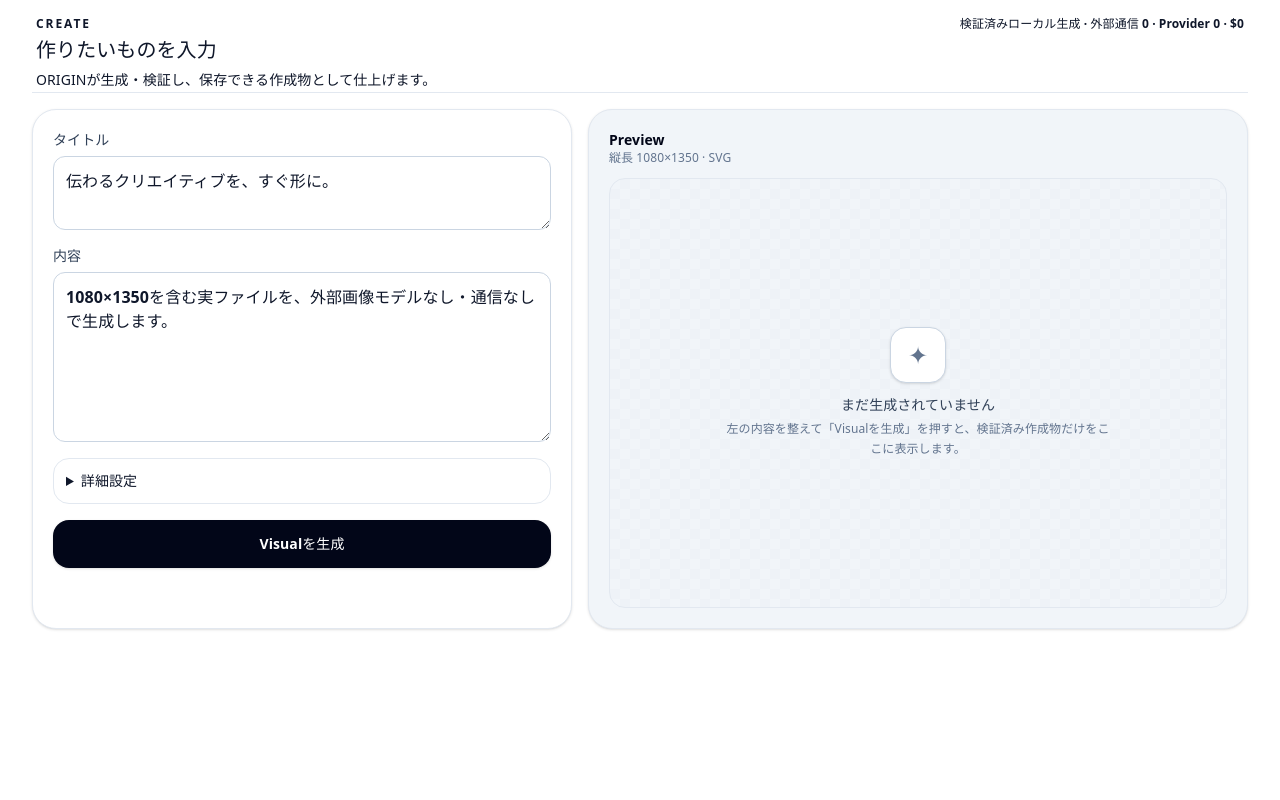
it: CreativeWorkspaceV15 › checks the zero-cost capability, verifies actual bytes, previews SVG, and persists local history
Expected: the text "検証済みローカル生成 · 外部通信 0 · Provider 0 · $0" is shown, x1=960 y1=16 x2=1244 y2=32
Replace the text in the text box labelled "タイトル" with "日本語" at (302, 193), box x1=53 y1=156 x2=551 y2=230
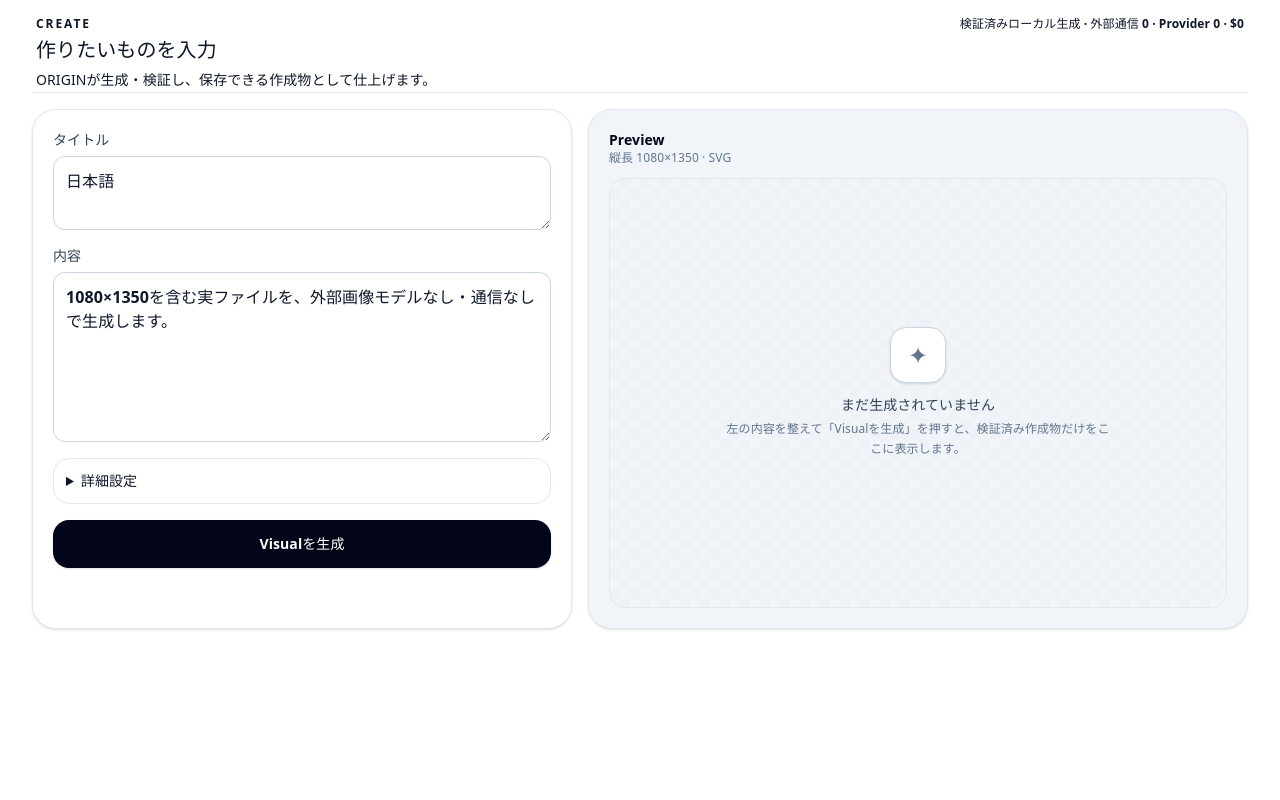
Click the button "Visualを生成".
click(302, 544)  # box x1=53 y1=520 x2=551 y2=568
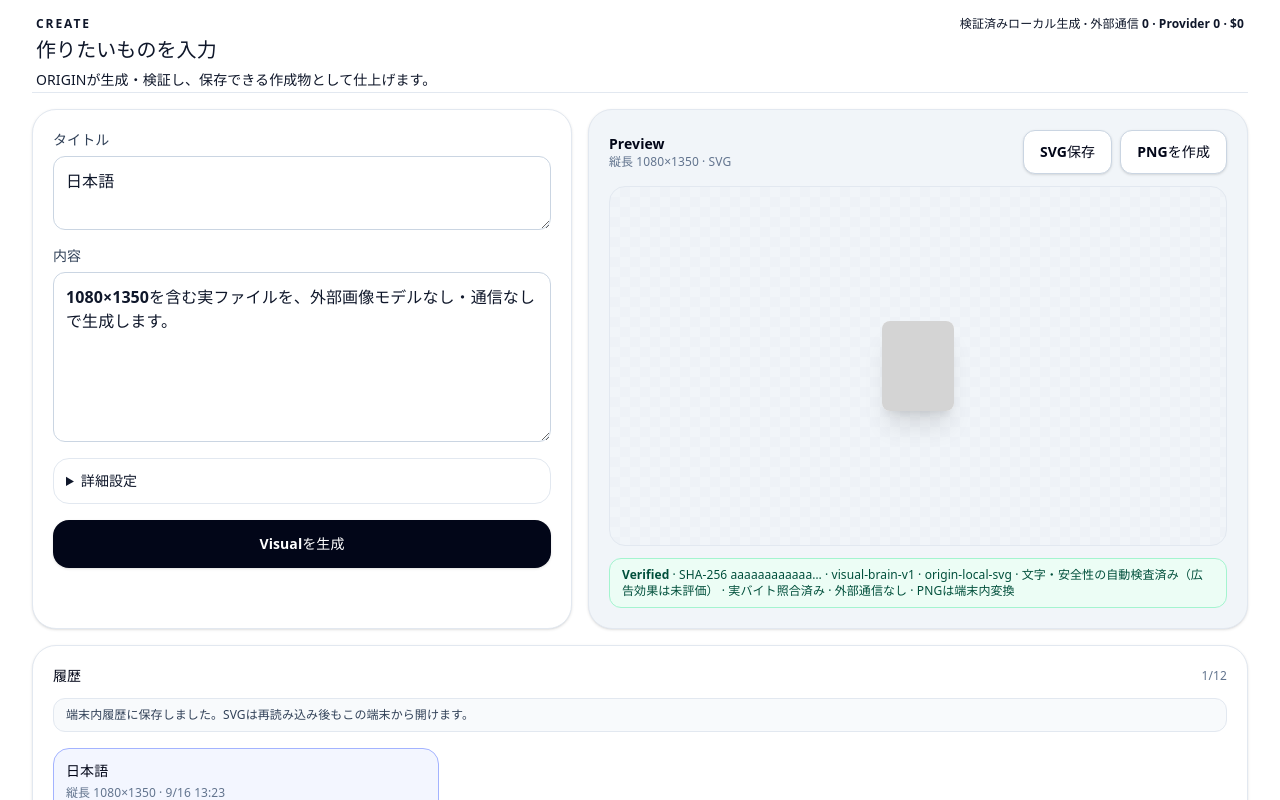
Expected: the text "SHA-256 aaaaaaaaaaaa…" is shown, x1=609 y1=558 x2=1227 y2=608
Expected: the text "visual-brain-v1" is shown, x1=832 y1=566 x2=915 y2=583
Expected: the text "origin-local-svg" is shown, x1=925 y1=566 x2=1012 y2=583
